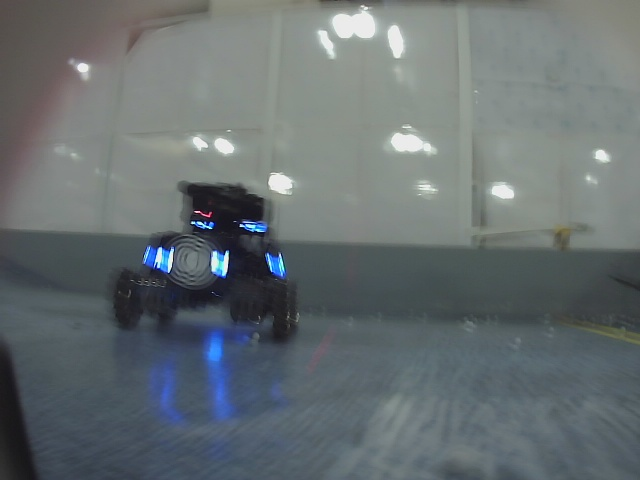lamp: (165, 248, 176, 274), (218, 250, 229, 275)
pair: (155, 246, 229, 277)
